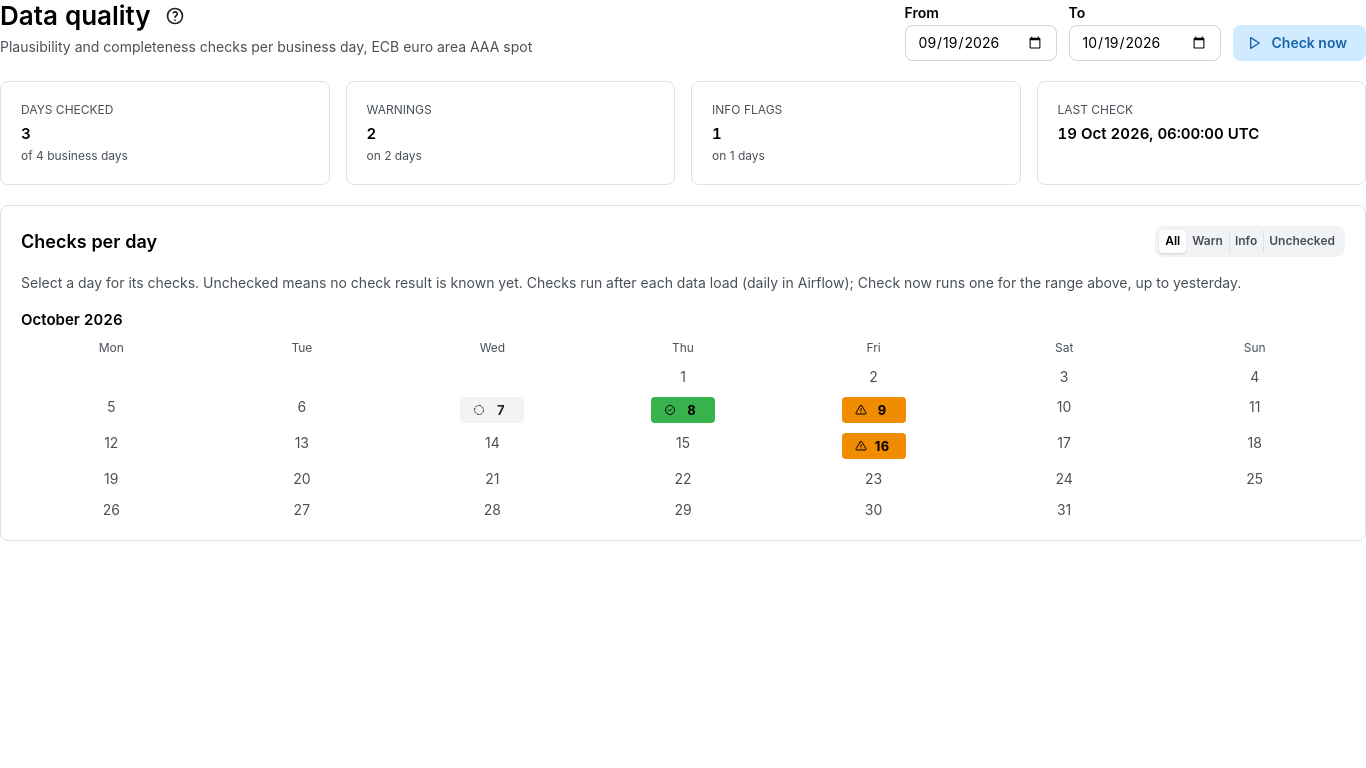
Test: QualityView › partial check shows Not checked: Jump in the day
Click the button named "2026-10-08, Passed".
click(683, 410)  # box 651,397 -> 715,423
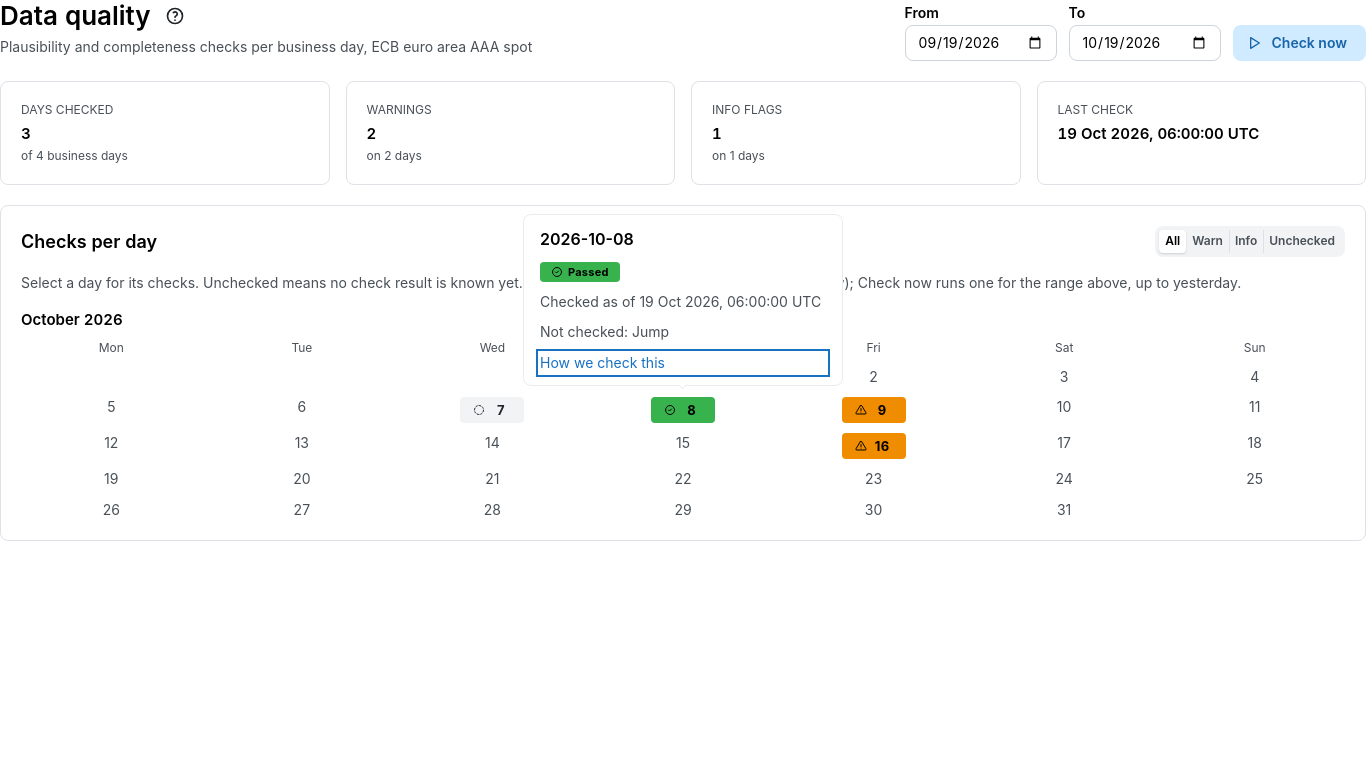
Result: the text "Not checked: Jump" is shown at 540,323 -> 669,340
